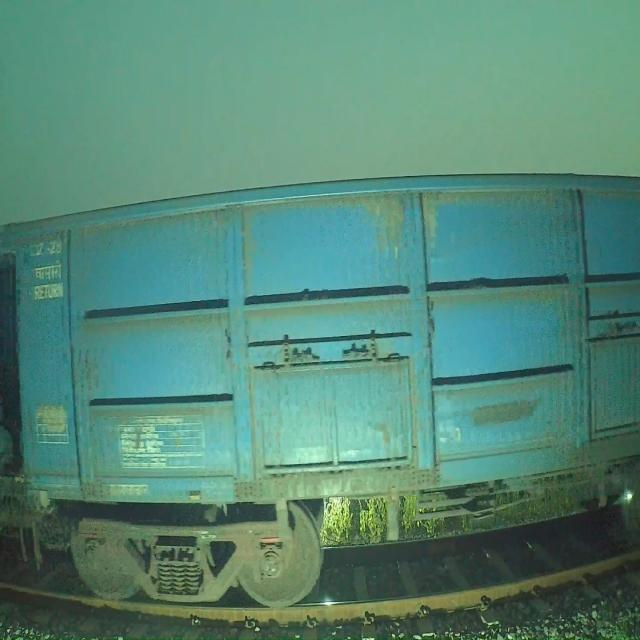WAgon-uic: (0, 170, 638, 608)
